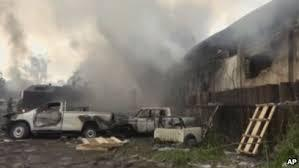smoke: (0, 0, 299, 131)
